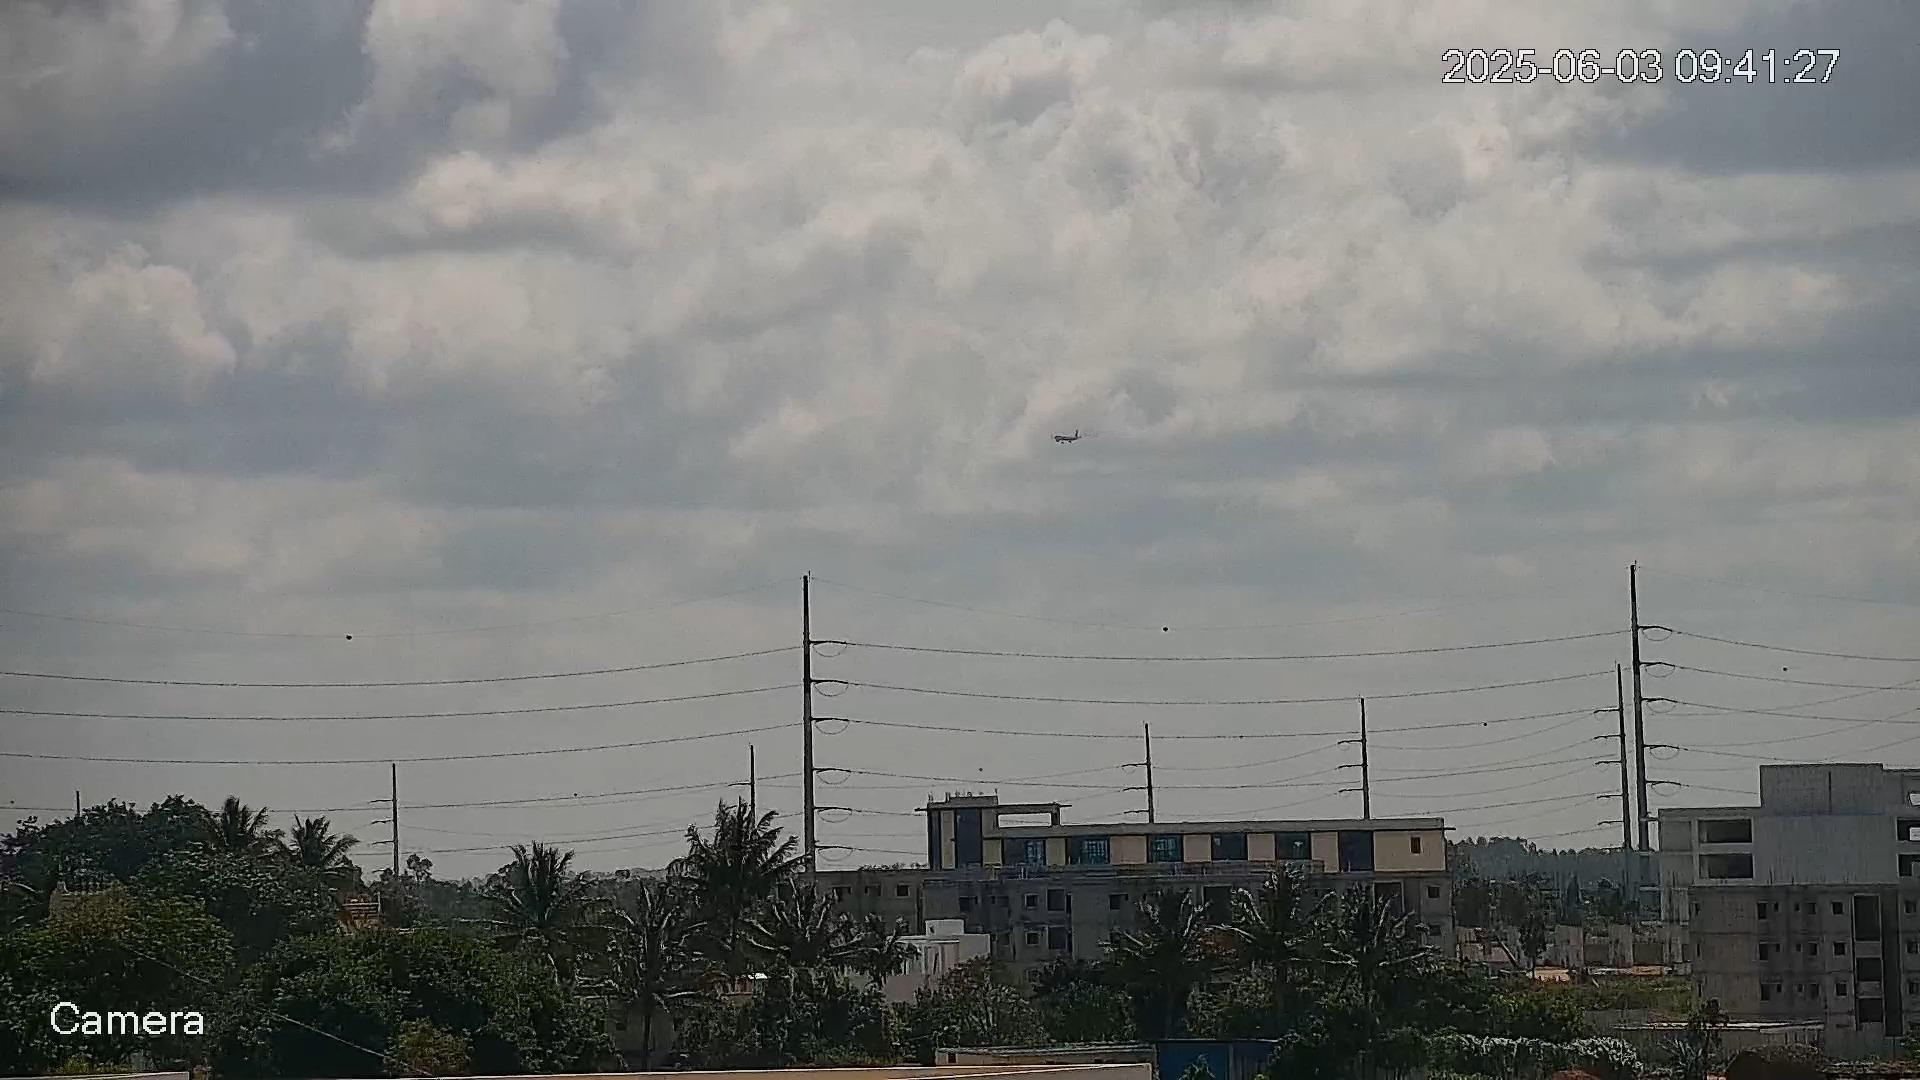Aircraft: (1051, 429, 1085, 448)
